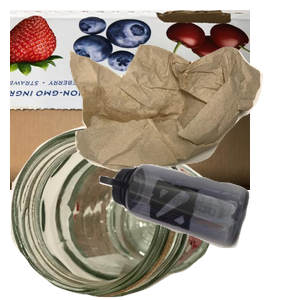cardboard: (10, 10, 250, 190)
glass: (10, 126, 220, 300)
plastic: (97, 162, 300, 300)
trash: (67, 42, 300, 206)
